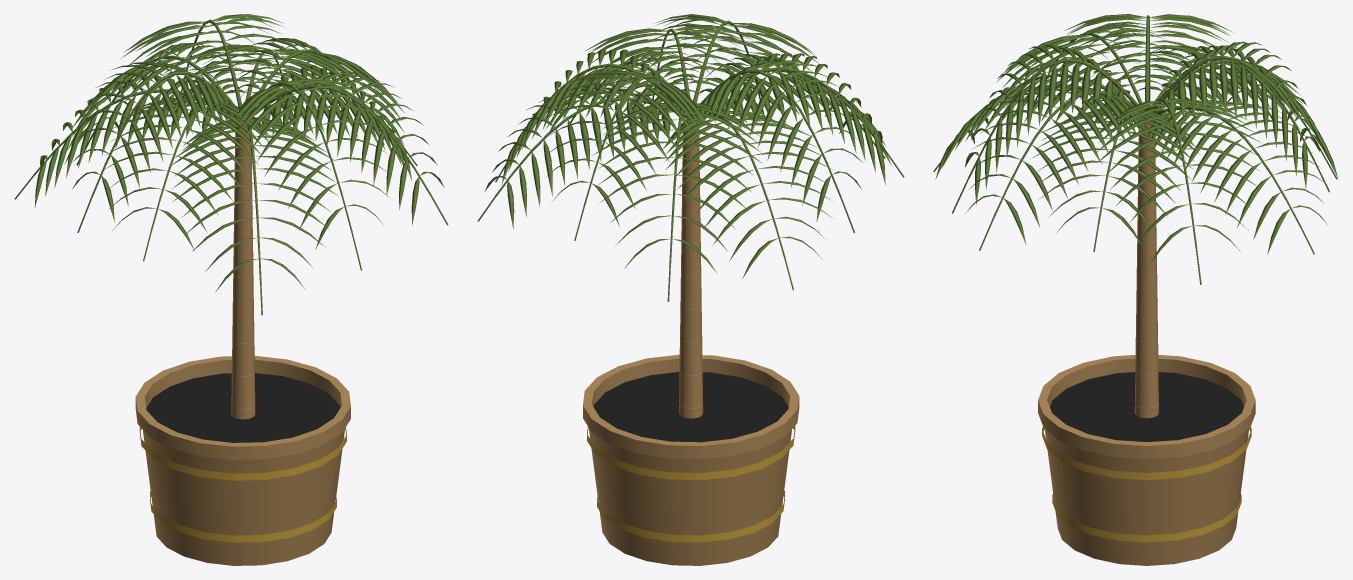
The model's file is parametric-planter-2nd-pub.glb.
The picture shows the model from 3 angles, left to right: view 1: azimuth 30°, elevation 25°; view 2: azimuth 150°, elevation 25°; view 3: azimuth 270°, elevation 25°; orthographic projection.
Parts seen in each view (by area): view 1: parametric-planter-2nd-pub; view 2: parametric-planter-2nd-pub; view 3: parametric-planter-2nd-pub.
Boxes of the visible parts, <box> form: parametric-planter-2nd-pub: <box>14,14,448,565</box>; parametric-planter-2nd-pub: <box>477,14,904,565</box>; parametric-planter-2nd-pub: <box>933,14,1338,565</box>.
Bounding box in the file's own units: 1.09 × 1.45 × 1.12.
